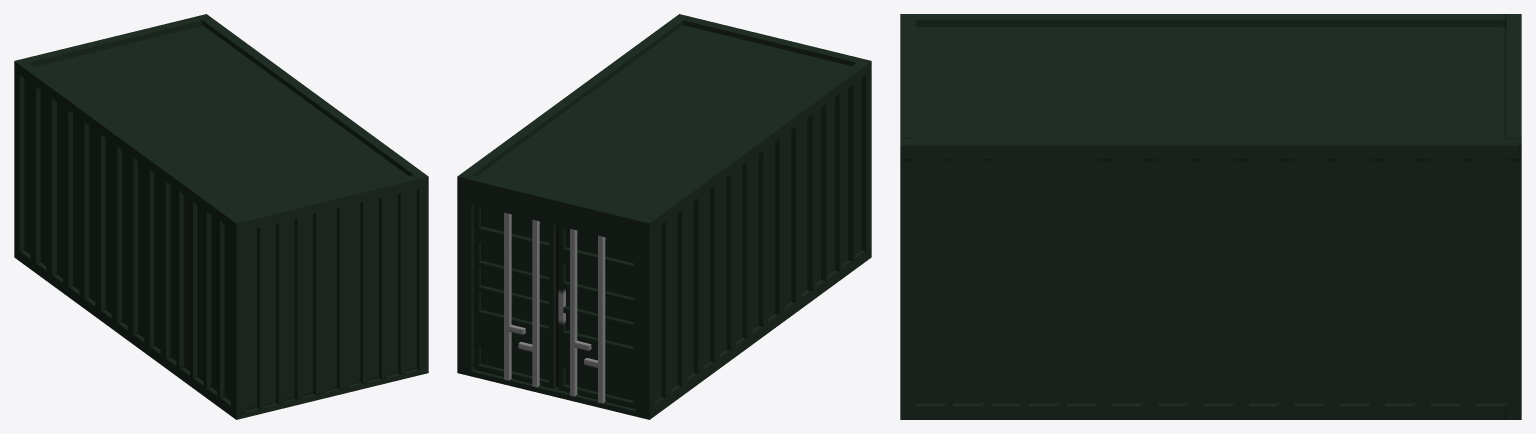
File: kontyner_maly.dae
The picture shows the model from 3 angles, left to right: view 1: azimuth 30°, elevation 25°; view 2: azimuth 150°, elevation 25°; view 3: azimuth 270°, elevation 25°; orthographic projection. The views are drawn at different scales.
Visible parts, largest first — view 1: Content; view 2: Content; view 3: Content.
Part boxes in pixels (x1=…): Content: x1=14, y1=14, x2=428, y2=419; Content: x1=457, y1=14, x2=871, y2=419; Content: x1=900, y1=14, x2=1521, y2=419.
Bounding box in the file's own units: 41 × 40 × 82.
Materials: 1 (1 with a texture image).
